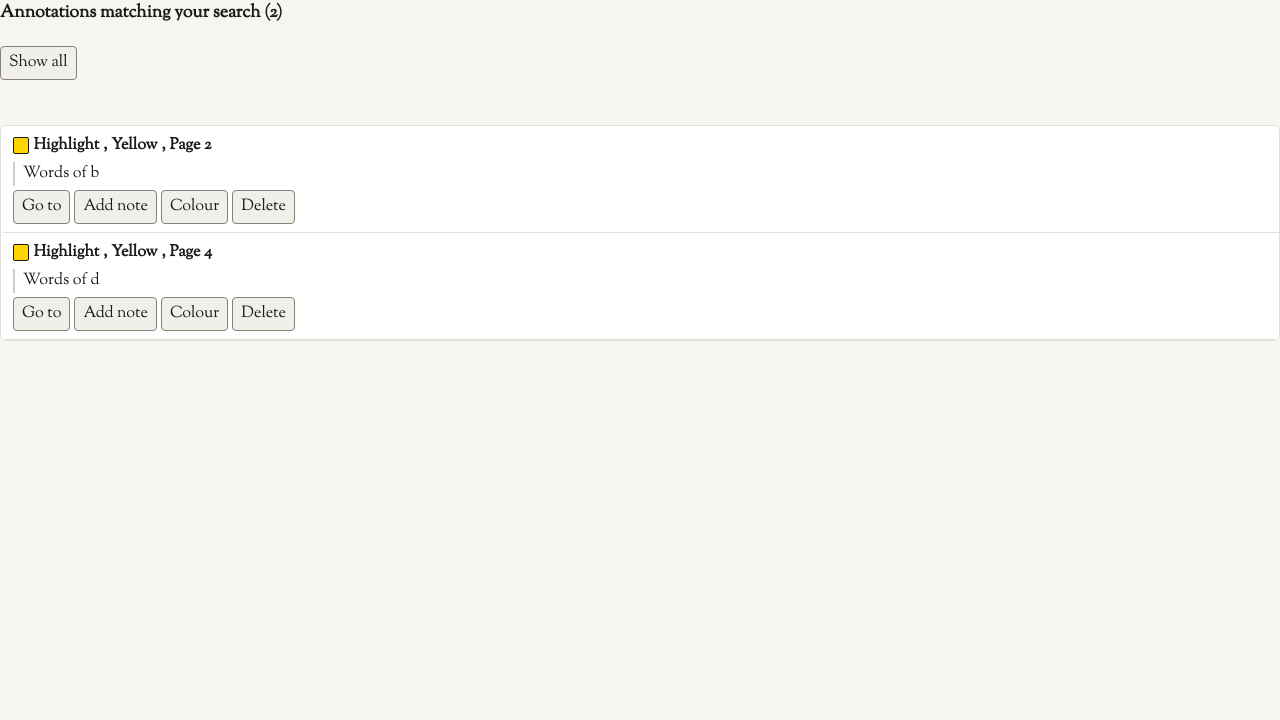
it: AnnotationList filtered by a search (Task R12) › a delete made while filtered takes the entry out, the count follows, focus goes to the next match
Click the button "Delete" below "Page 2": {"x": 264, "y": 206} [232,190,295,224]
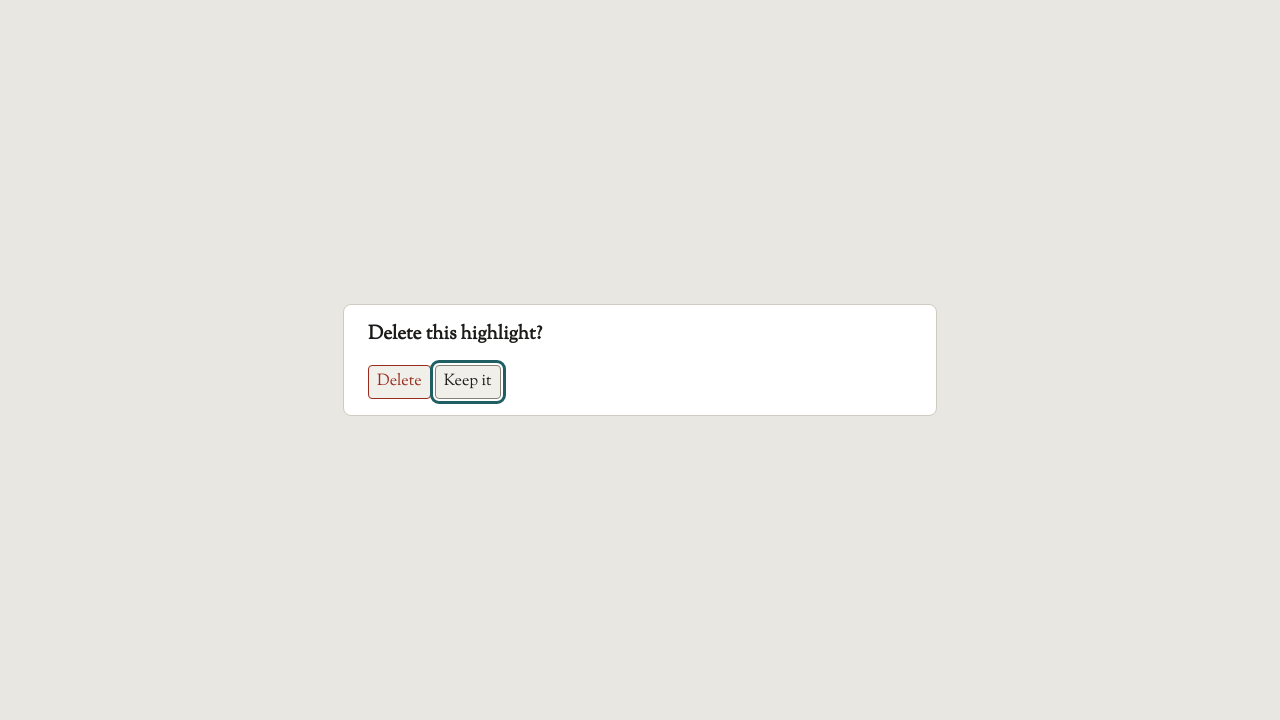
Click the button "Delete": {"x": 399, "y": 382} [368,365,431,399]
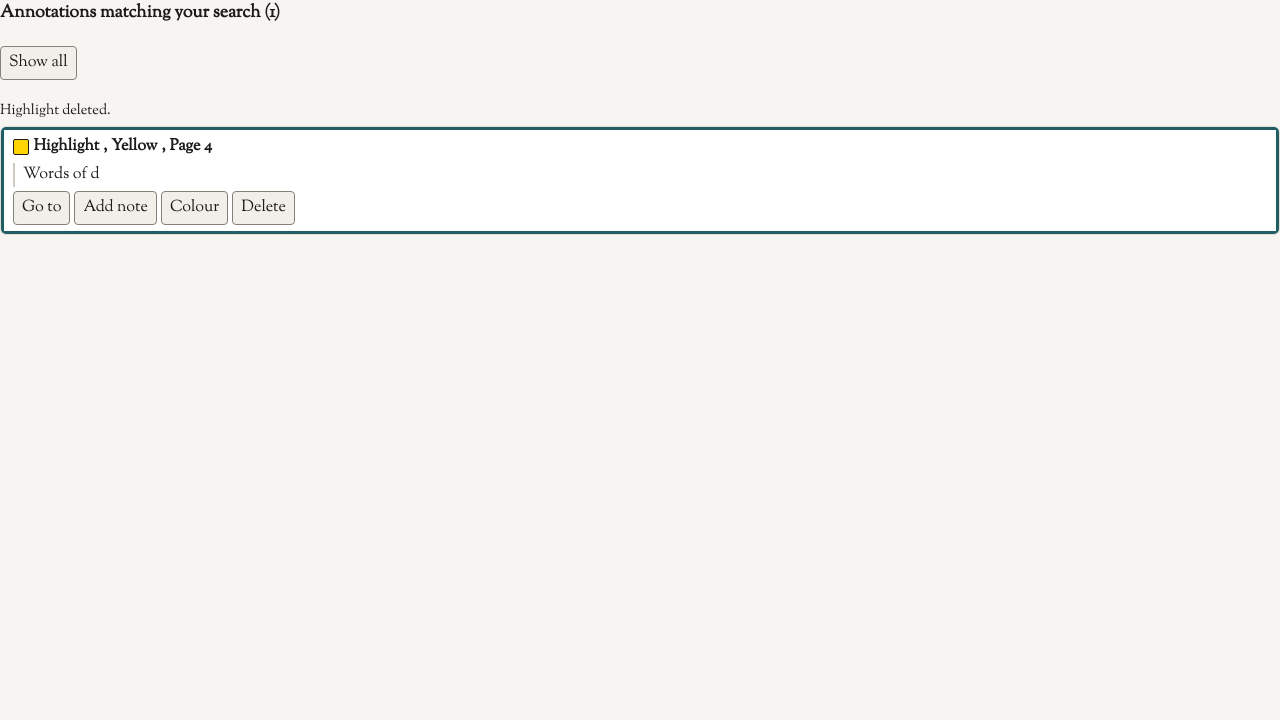
Now the heading "Annotations matching your search (1)" is shown, box [0,0,280,25]
